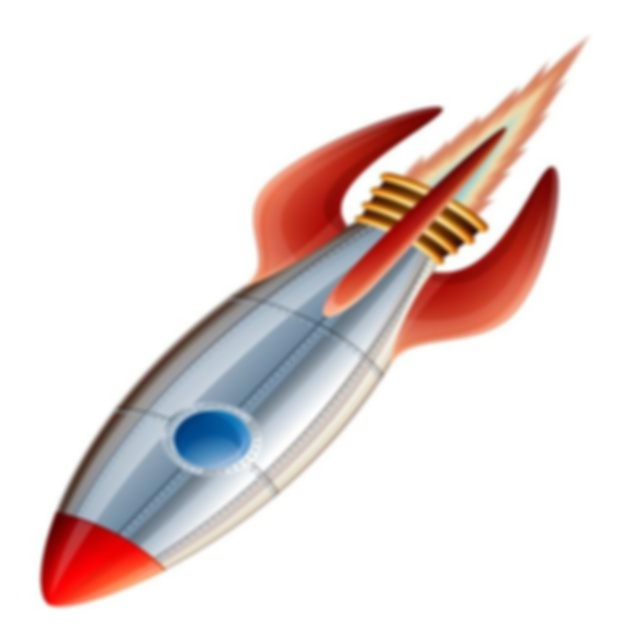medium_debris: (404, 38, 583, 226)
